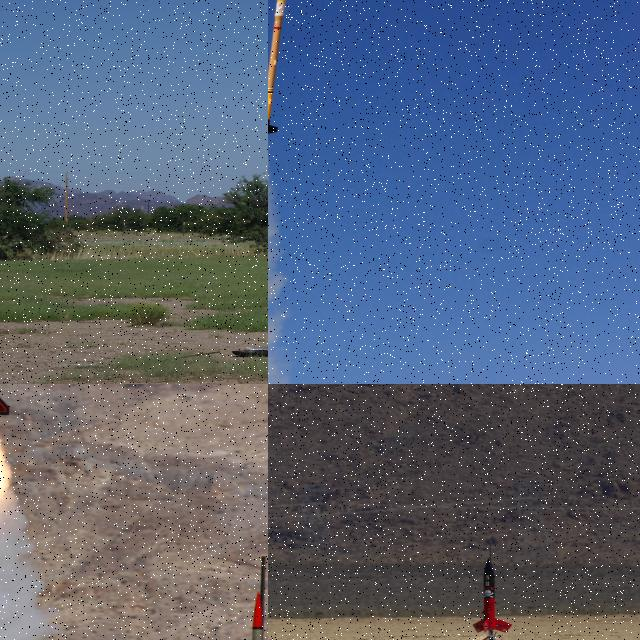Rocket: (268, 0, 291, 138), (472, 558, 513, 634), (239, 591, 268, 640)
